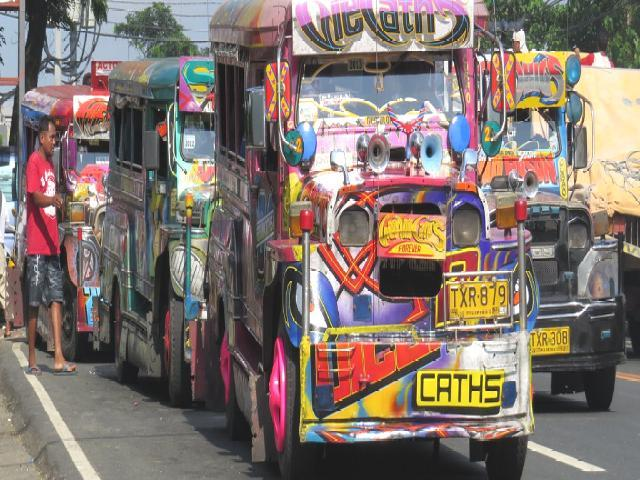jeepney: (213, 0, 541, 480), (478, 0, 639, 475), (98, 31, 244, 428), (11, 59, 123, 371)
